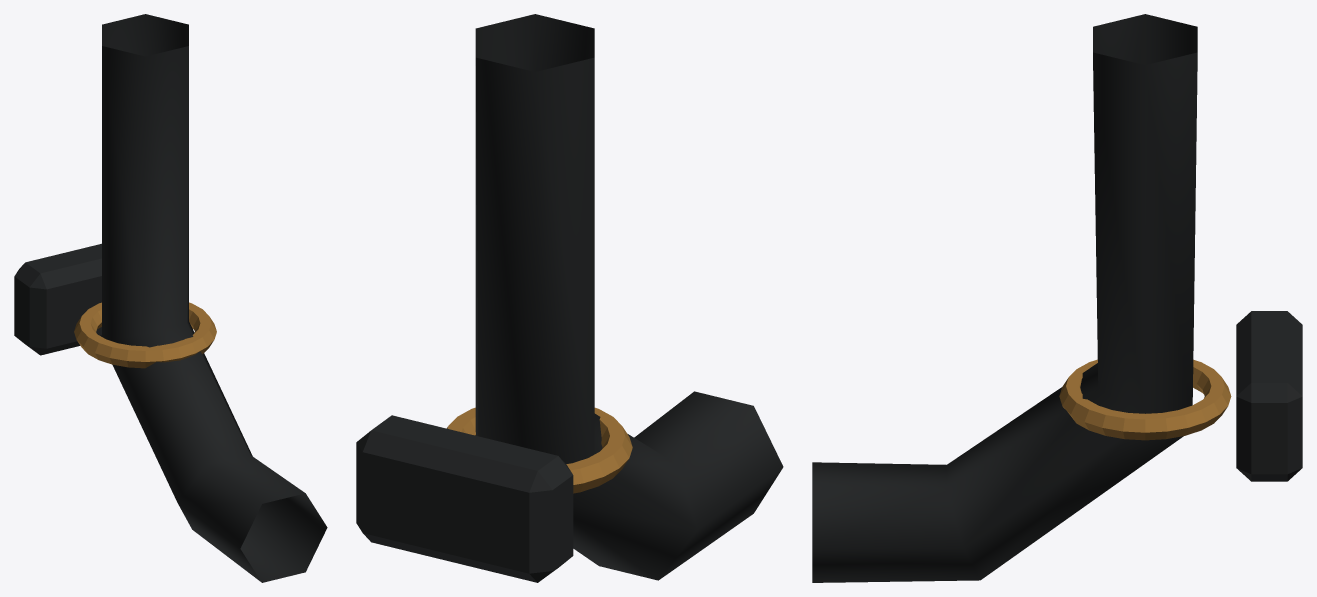
The model's file is DrainpipeShoe.glb.
The picture shows the model from 3 angles, left to right: view 1: azimuth 30°, elevation 25°; view 2: azimuth 150°, elevation 25°; view 3: azimuth 270°, elevation 25°; orthographic projection. The views are drawn at different scales.
Parts seen in each view (by area): view 1: BlackIronDrainpipe.002, PipeWallBracket.003, PipeCollar.003; view 2: BlackIronDrainpipe.002, PipeWallBracket.003, PipeCollar.003; view 3: BlackIronDrainpipe.002, PipeWallBracket.003, PipeCollar.003.
Part boxes in pixels (x1,y1,x2,y2): BlackIronDrainpipe.002: (102, 14, 327, 582); PipeWallBracket.003: (14, 243, 101, 355); PipeCollar.003: (74, 302, 216, 368); BlackIronDrainpipe.002: (475, 14, 783, 580); PipeWallBracket.003: (356, 415, 573, 582); PipeCollar.003: (447, 407, 632, 493); BlackIronDrainpipe.002: (812, 14, 1197, 582); PipeWallBracket.003: (1236, 311, 1302, 481); PipeCollar.003: (1059, 359, 1231, 440).
Bounding box in the file's own units: 0.33 × 0.9666 × 0.81.
